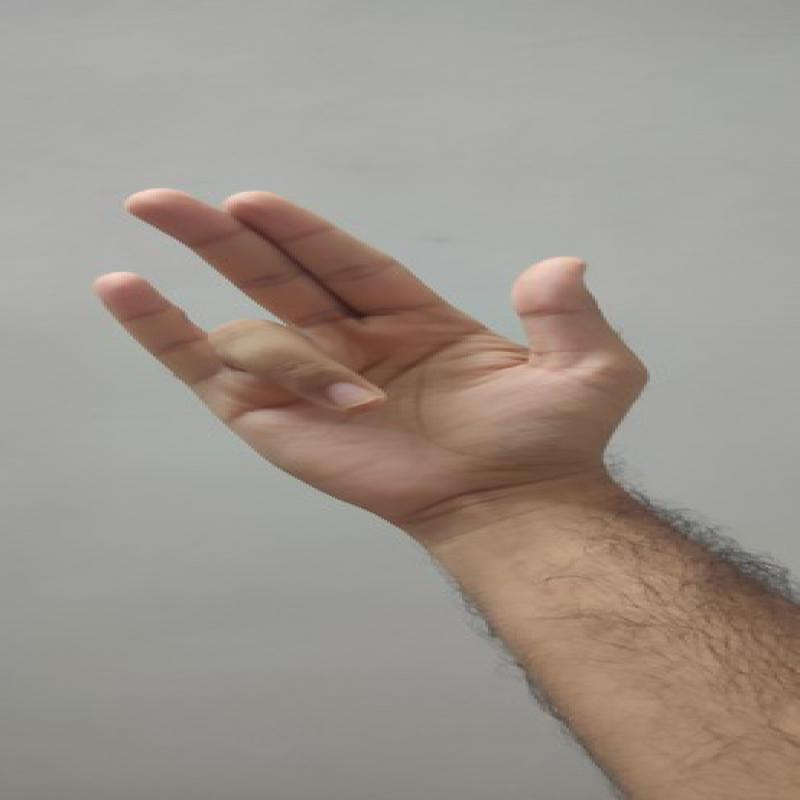Pathaaka: (86, 175, 660, 528)
